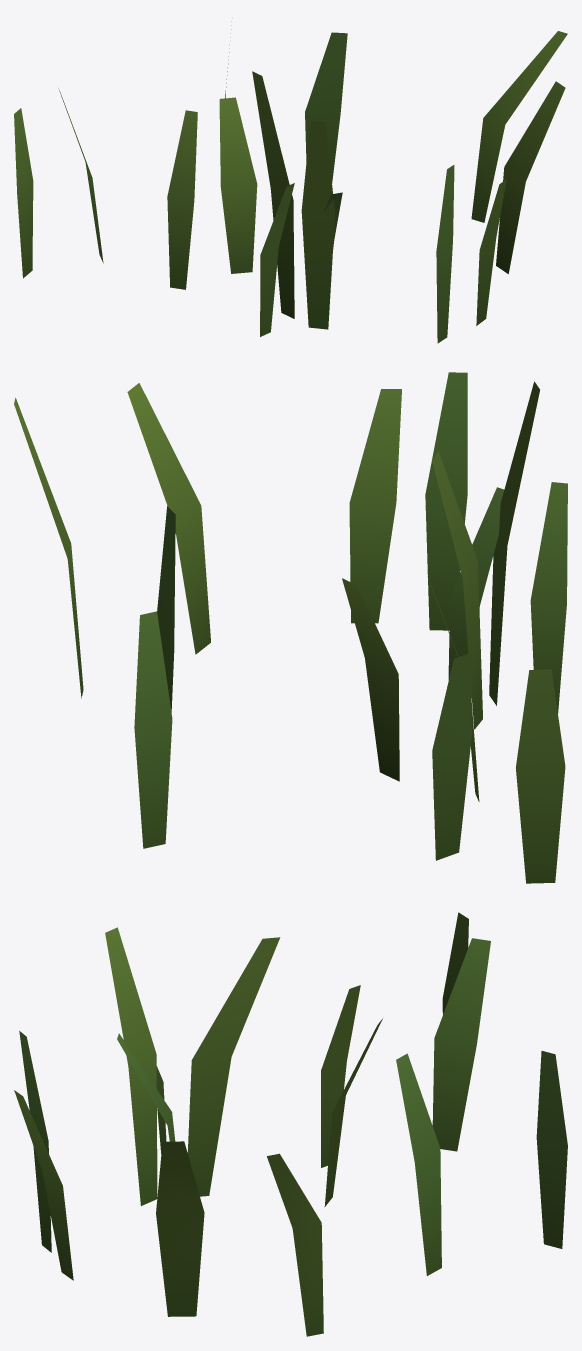
The model's file is grass_tuft_01.gltf.
3 renders of one model, top to bottom at view 1: azimuth 30°, elevation 25°; view 2: azimuth 150°, elevation 25°; view 3: azimuth 270°, elevation 25°, orthographic. The views are drawn at different scales.
Parts seen in each view (by area): view 1: grass_tuft_01.blades; view 2: grass_tuft_01.blades; view 3: grass_tuft_01.blades.
Boxes of the visible parts, <box> form: grass_tuft_01.blades: <box>14,21,567,343</box>; grass_tuft_01.blades: <box>14,372,567,883</box>; grass_tuft_01.blades: <box>14,912,567,1336</box>.
Bounding box in the file's own units: 0.1537 × 0.0687 × 0.1311.
